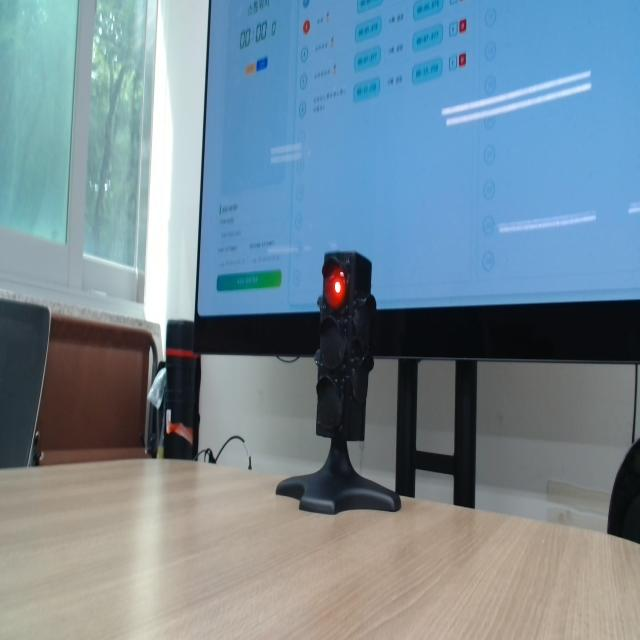red_light: (325, 266, 346, 309)
